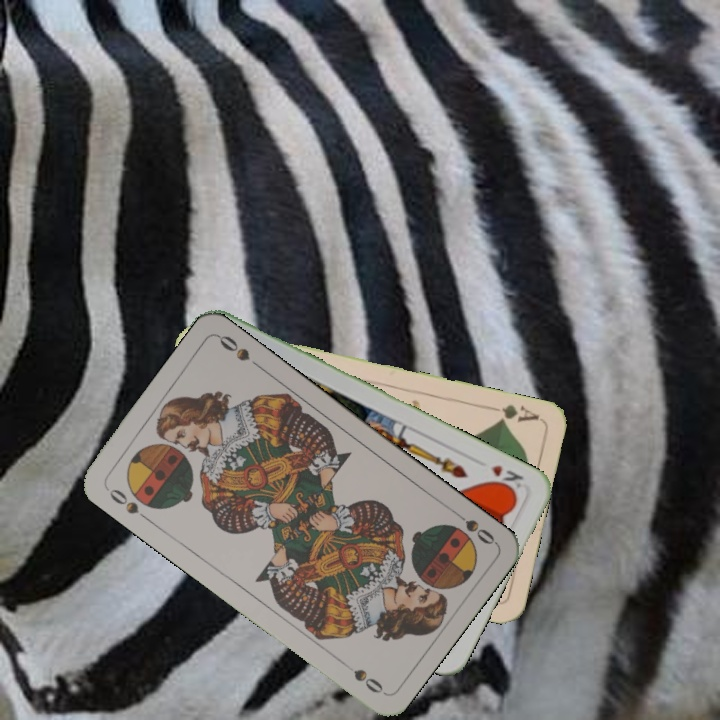GA: (483, 400, 542, 426)
HK: (486, 460, 526, 495)
SO: (448, 505, 498, 547), (102, 483, 152, 524)
